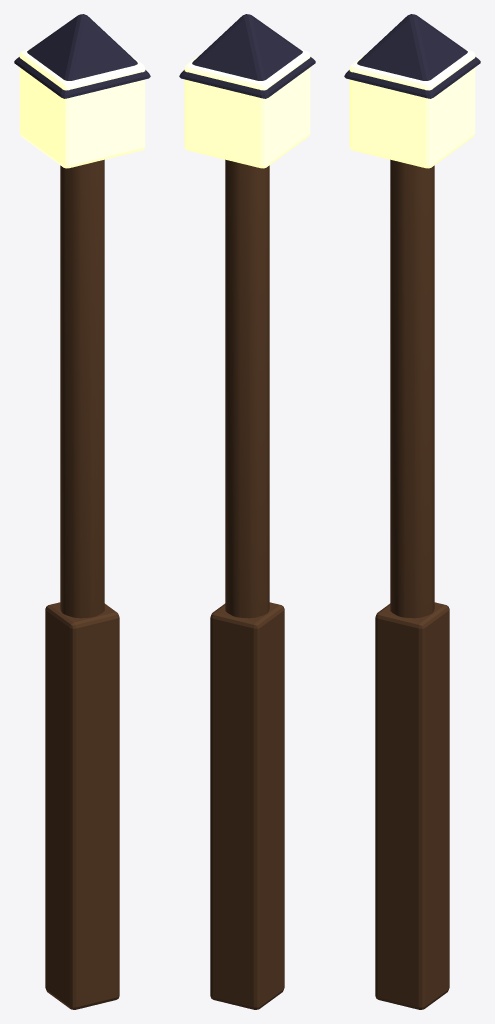
Rendered from les-lampa.glb.
3 views of the same model, side by side, from view 1: azimuth 30°, elevation 25°; view 2: azimuth 150°, elevation 25°; view 3: azimuth 330°, elevation 25° (orthographic).
Parts seen in each view (by area): view 1: lampa; view 2: lampa; view 3: lampa.
Boxes of the visible parts, left/top/right/bottom form: lampa: left=14, top=14, right=150, bottom=1009; lampa: left=179, top=14, right=315, bottom=1009; lampa: left=344, top=14, right=480, bottom=1009.
Size of the model in its own units: 0.2167 by 2.28 by 0.2167.
